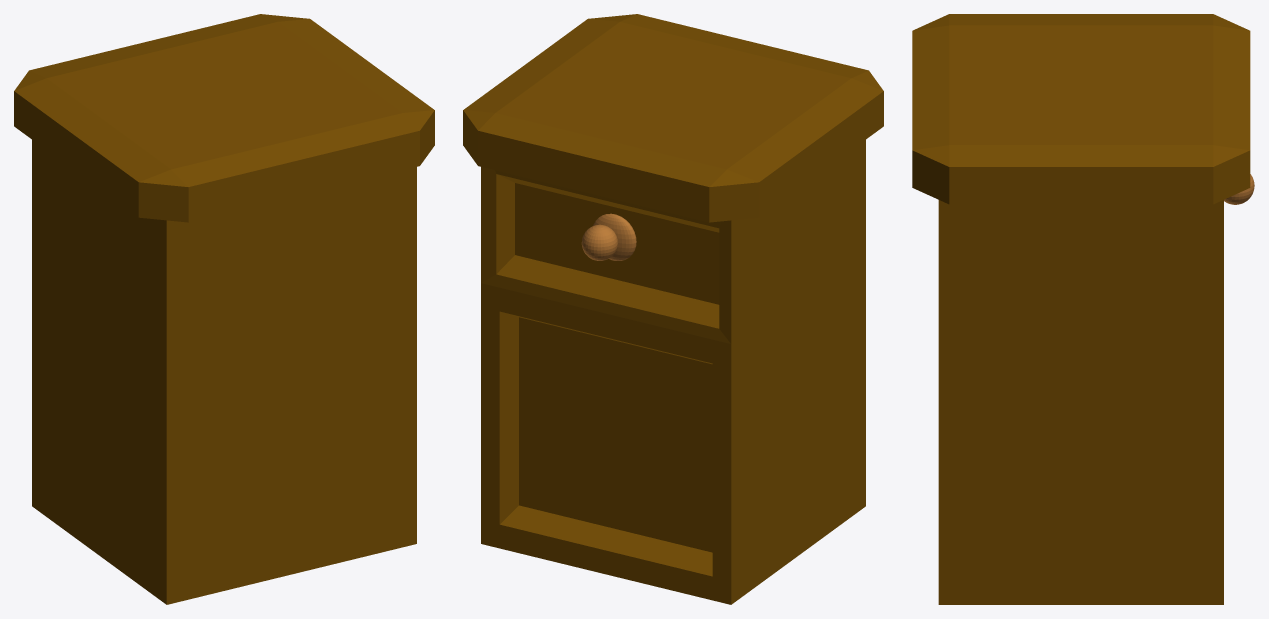
The model's file is bedside table.fbx.
3 renders of one model, left to right at view 1: azimuth 30°, elevation 25°; view 2: azimuth 150°, elevation 25°; view 3: azimuth 270°, elevation 25°, orthographic. The views are drawn at different scales.
Visible parts, largest first — view 1: main_body.001, top.001; view 2: main_body.001, top.001, nob.001; view 3: main_body.001, top.001.
Boxes of the visible parts, left/top/right/bottom form: main_body.001: left=32, top=140, right=416, bottom=604; top.001: left=14, top=14, right=434, bottom=222; main_body.001: left=481, top=140, right=865, bottom=604; top.001: left=463, top=14, right=883, bottom=222; nob.001: left=581, top=213, right=636, bottom=260; main_body.001: left=938, top=200, right=1223, bottom=604; top.001: left=912, top=14, right=1250, bottom=204.
Size of the model in its own units: 790 by 1095 by 746.
